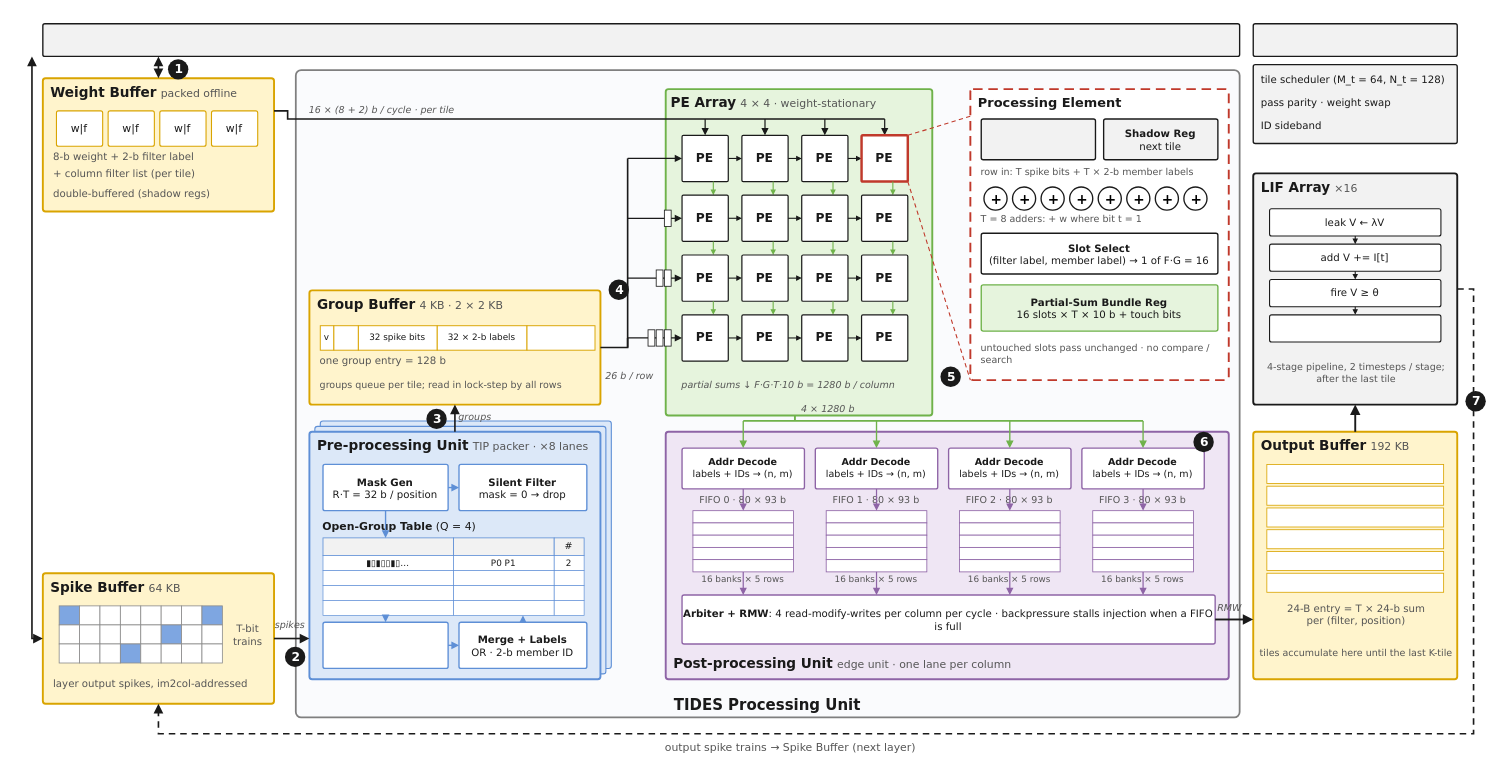
Some shapes in this 1510 by 779 pixel diagram are drawn without their labels. The shapes that lost their labels are listed below. From the top down, each one's centre as x and y in pixels, then its label:
At pixel 640 39: "Off-chip DRAM DDR4 · 64 GB/s".
At pixel 1354 39: "CTRL".
At pixel 1037 139: "Weight Reg 8 b + 2-b label".
At pixel 345 337: "cnt".
At pixel 560 337: "4 × 7-b IDs".
At pixel 1354 328: "reset V −= θ".
At pixel 387 546: "mask (32 b)".
At pixel 503 546: "members ≤ 4".
At pixel 385 644: "Conflict Check 4 × AND · first-fit".
